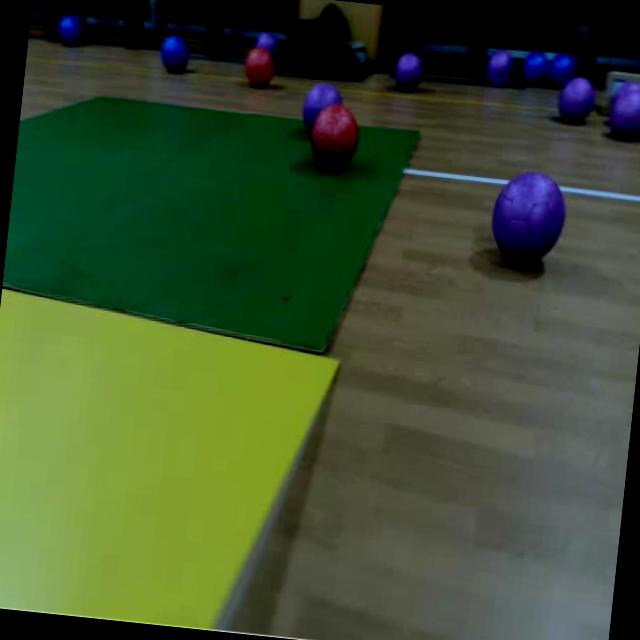blue_ball: (160, 32, 192, 71), (548, 51, 576, 88), (522, 50, 550, 86), (59, 12, 86, 46)
purple_ball: (486, 165, 570, 268), (301, 82, 344, 132), (557, 75, 595, 122), (610, 85, 640, 136), (394, 51, 422, 87), (252, 31, 279, 68), (489, 48, 512, 78)
red_ball: (306, 101, 361, 169), (244, 48, 274, 86)
